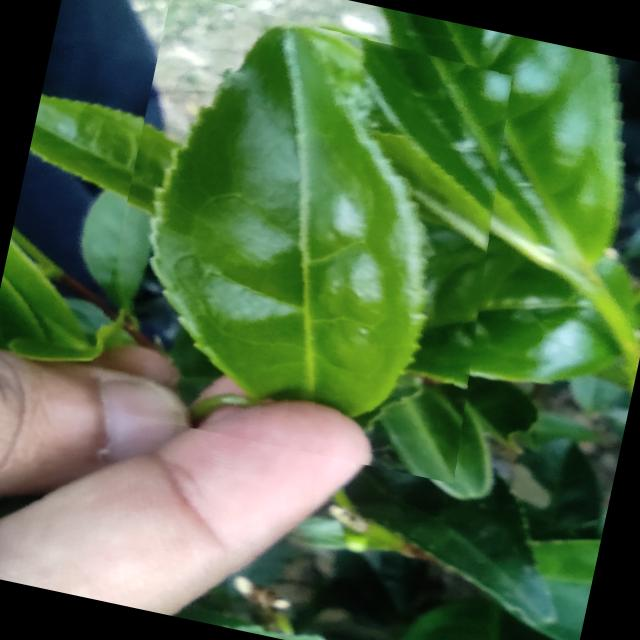Category C(4-7 days): (83, 0, 542, 482)
